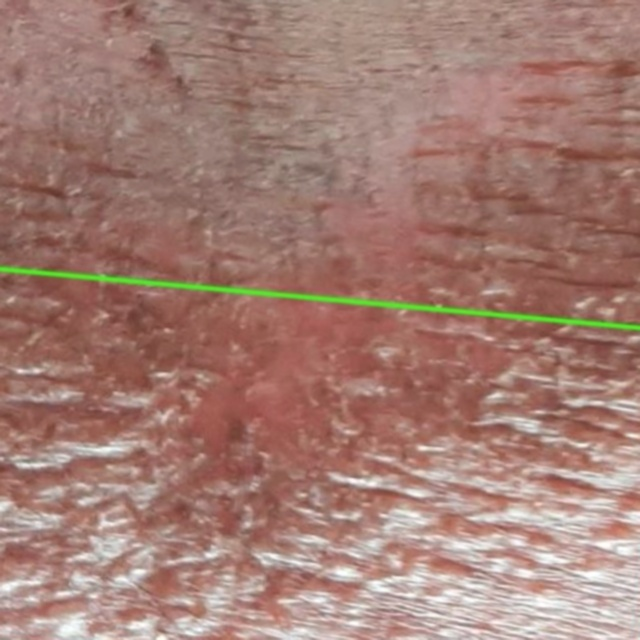Seborrheic Dermatitis: (0, 269, 639, 639)
